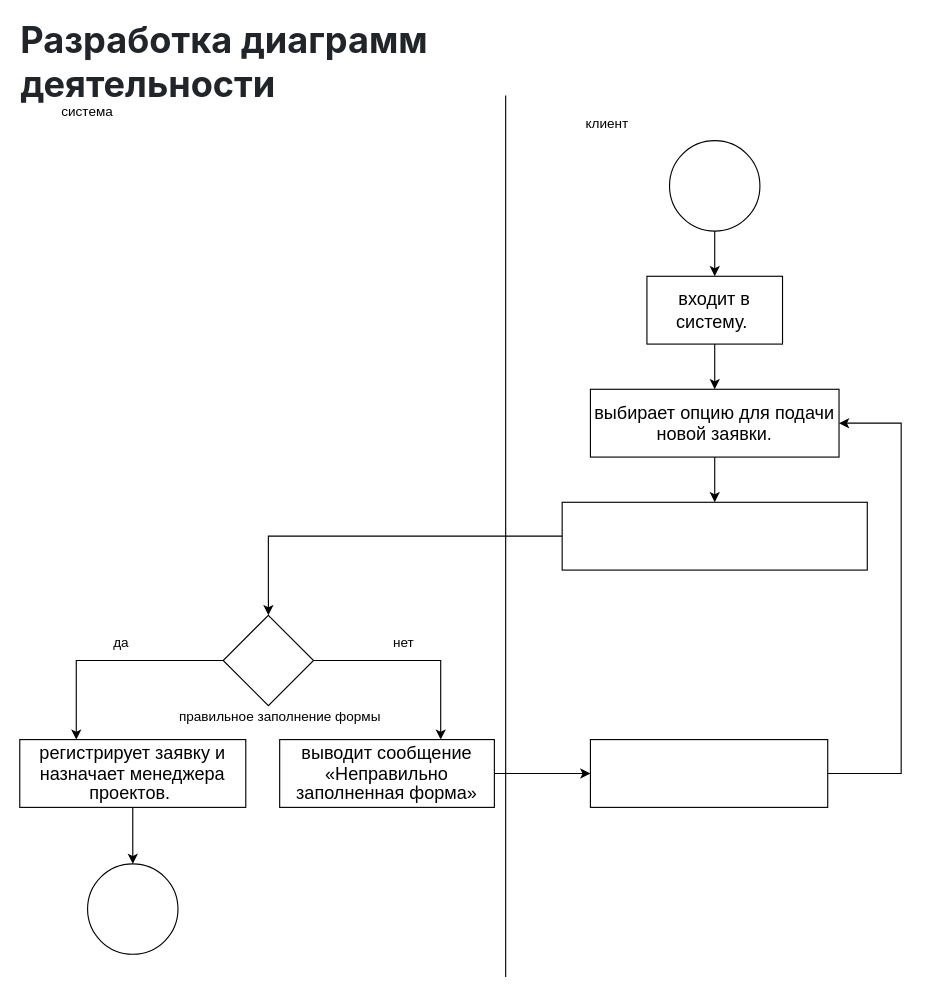
Image size: 930x998. Some labels were removed from this diagram. Each missing label, with the centre of its shape:
"заполняет форму заявки, указывая требования и предпочтения." belongs at [714,535].
"подтверждает просмотр сообщения." belongs at [708,772].
